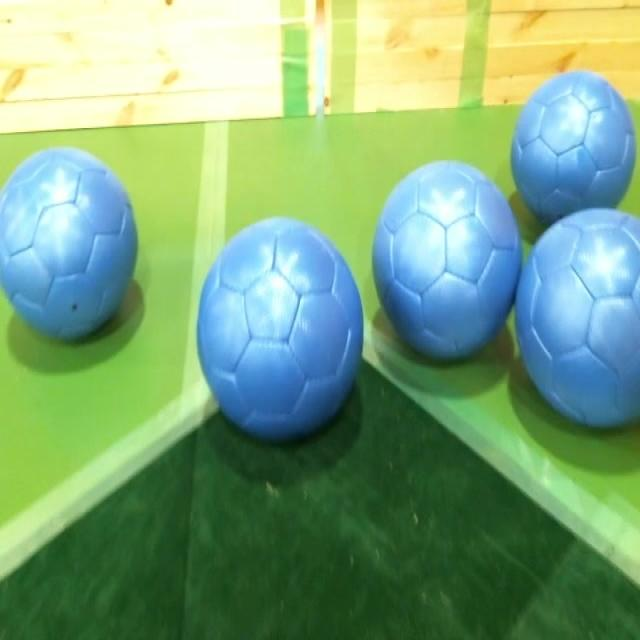blue_ball: (192, 220, 369, 441), (372, 158, 524, 365), (513, 206, 640, 434), (0, 147, 138, 343), (513, 72, 635, 226)
